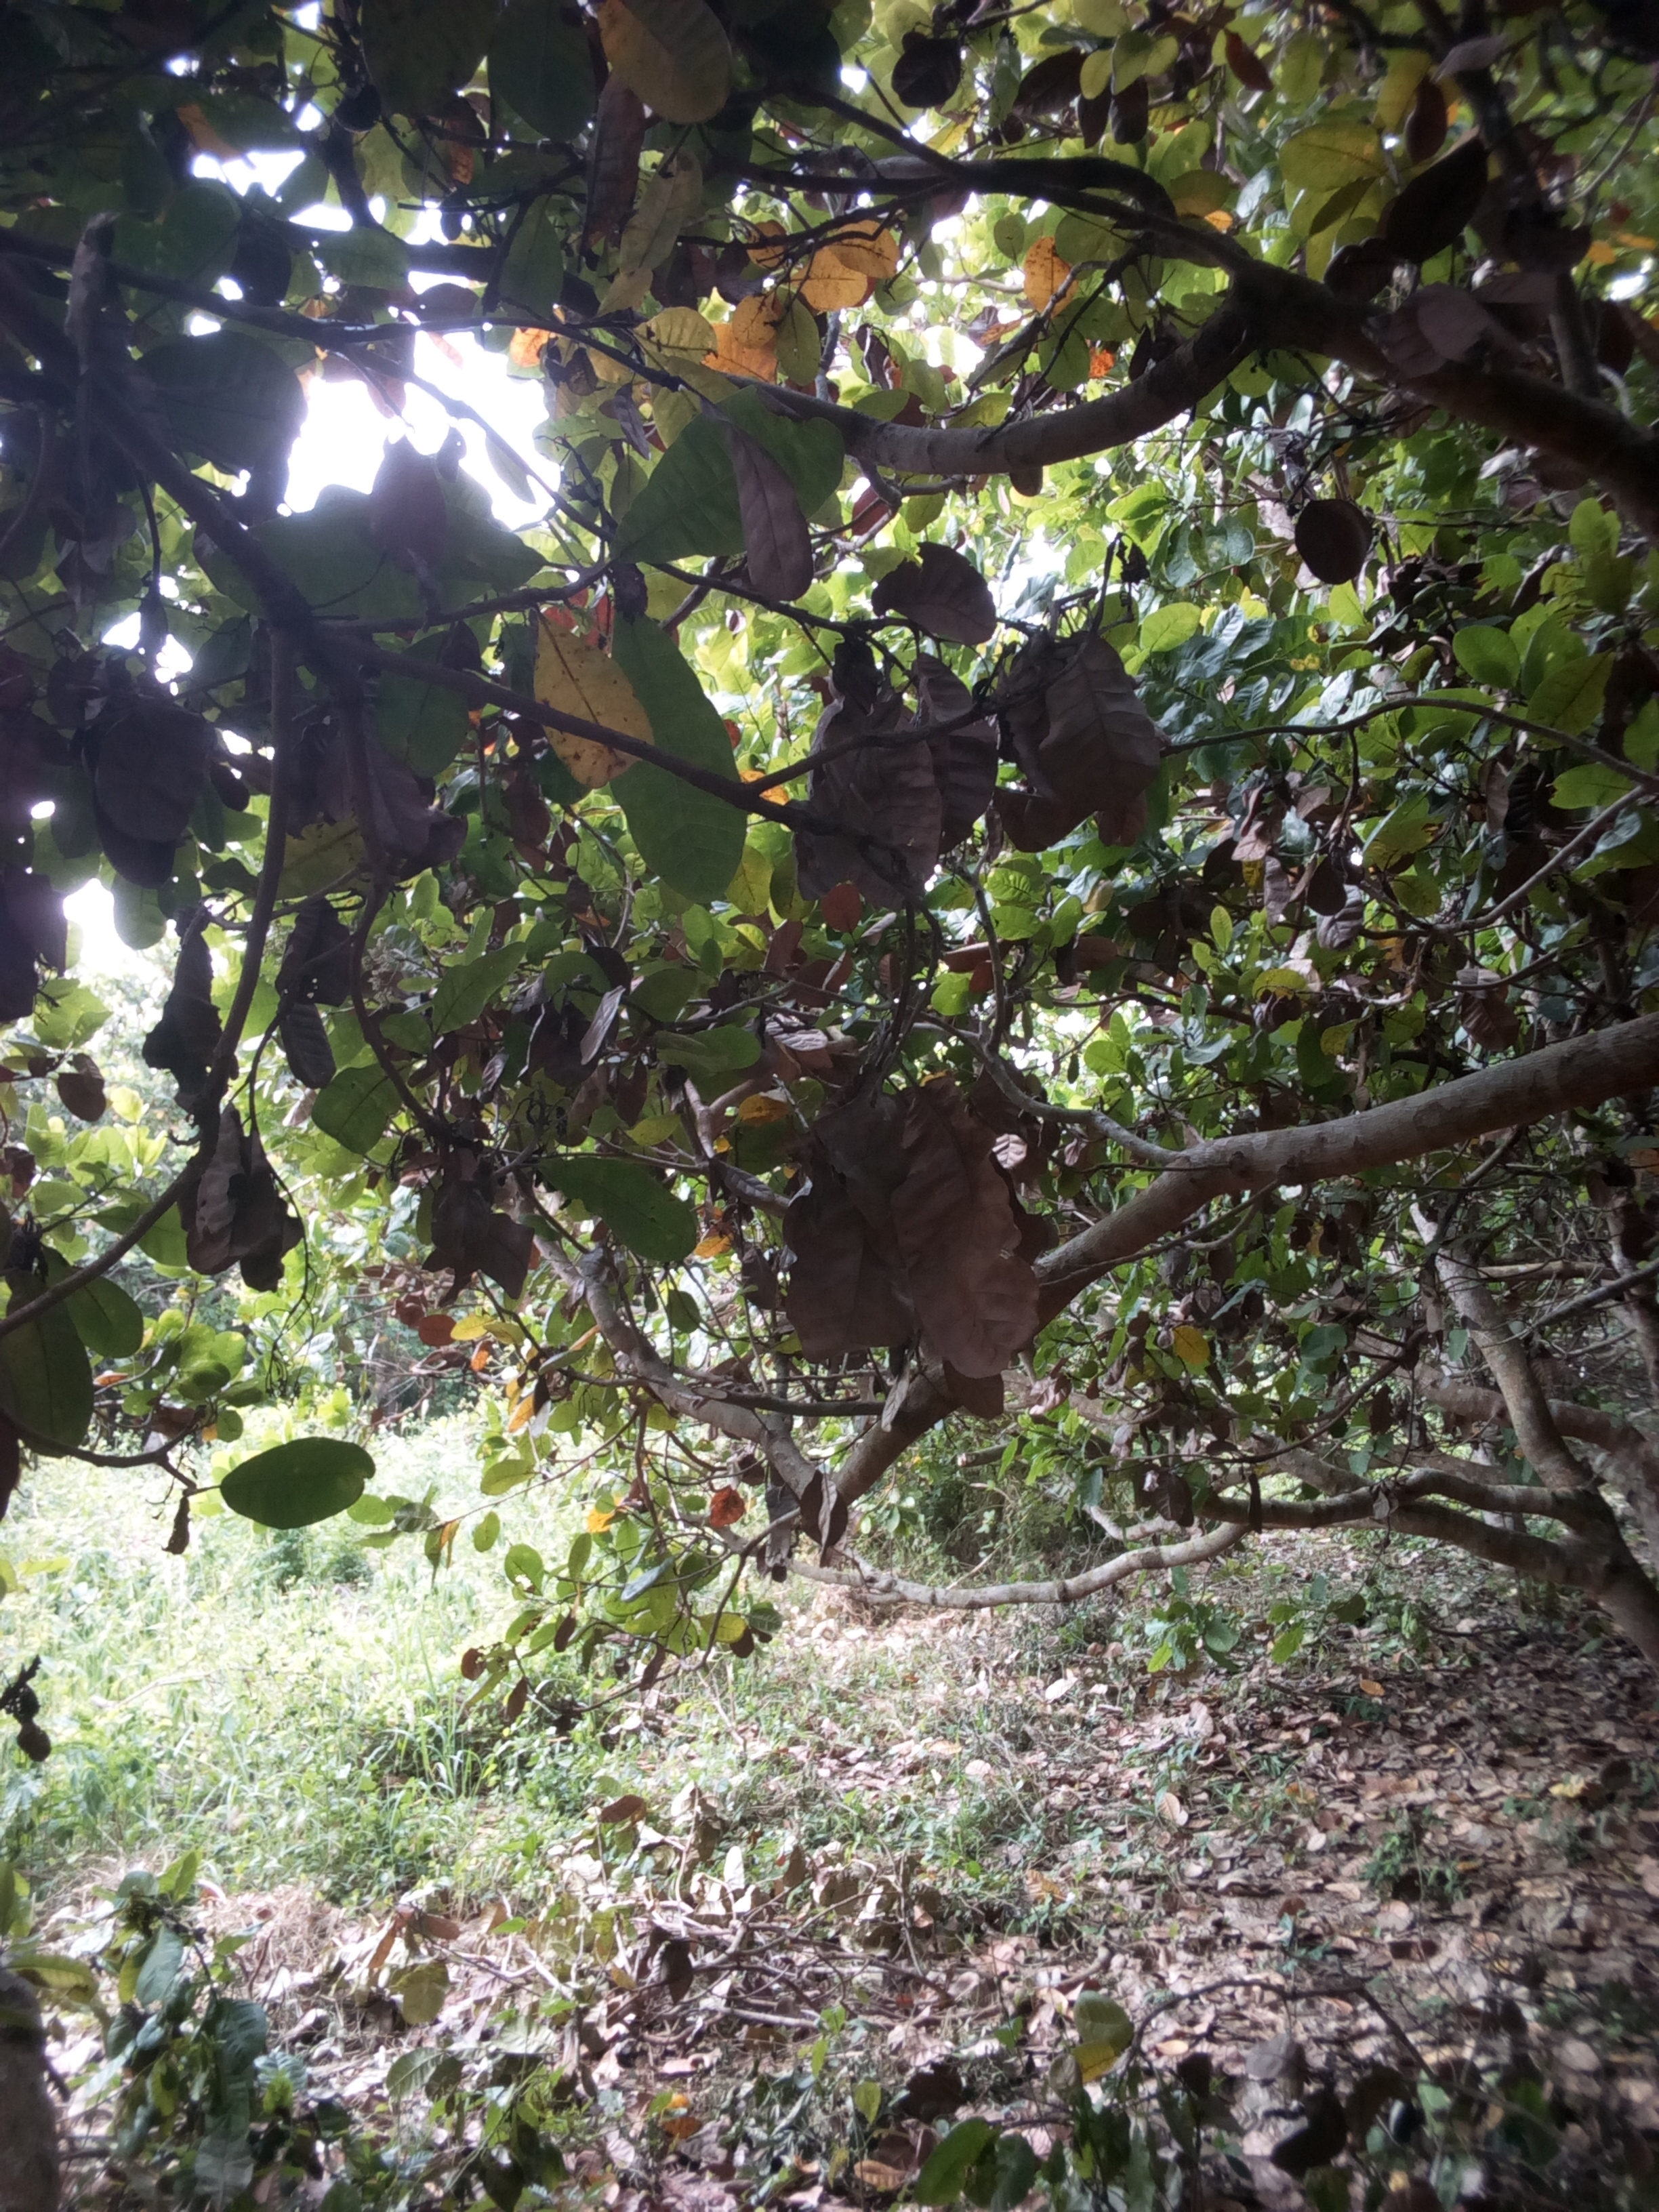Die-black: (812, 1089, 1056, 1397), (798, 669, 972, 941), (1023, 641, 1188, 841), (58, 693, 237, 866), (697, 397, 829, 615), (335, 690, 457, 892), (188, 1099, 274, 1275)
